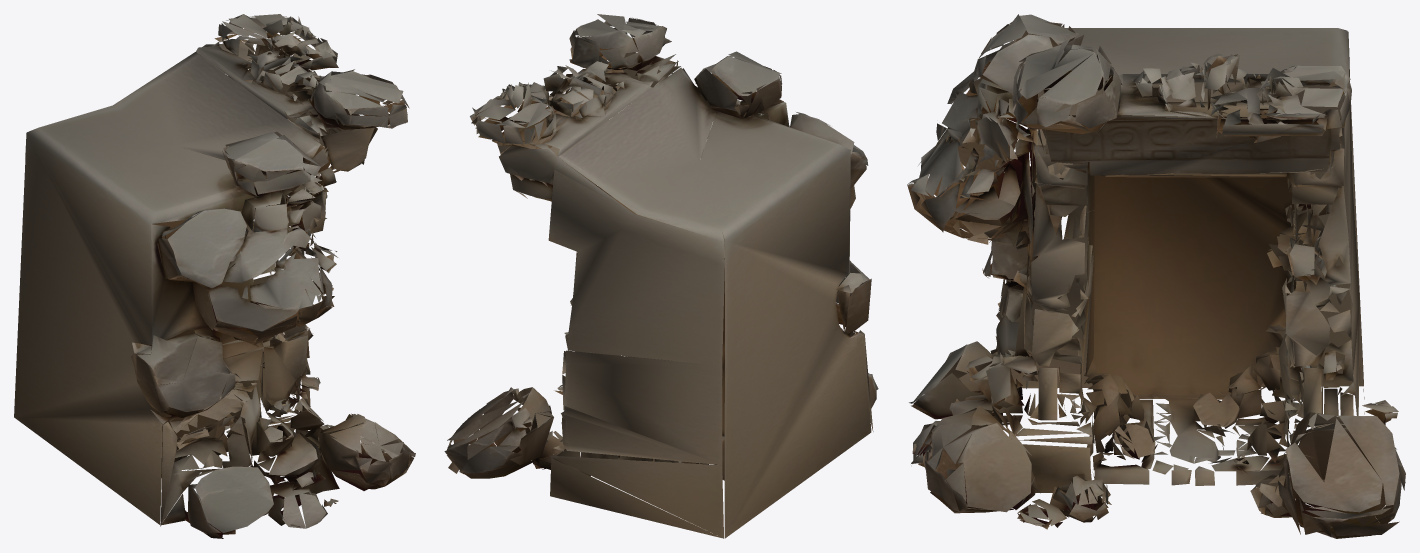
The model's file is fin_collapsed_cave_exit_LOD2.glb.
3 renders of one model, left to right at view 1: azimuth 30°, elevation 25°; view 2: azimuth 150°, elevation 25°; view 3: azimuth 270°, elevation 25°, orthographic. The views are drawn at different scales.
Parts seen in each view (by area): view 1: tripo_node_e22f4373-47d0-40c1-ba41-8e5068f57354; view 2: tripo_node_e22f4373-47d0-40c1-ba41-8e5068f57354; view 3: tripo_node_e22f4373-47d0-40c1-ba41-8e5068f57354.
Boxes of the visible parts, <box> form: tripo_node_e22f4373-47d0-40c1-ba41-8e5068f57354: <box>14,14,415,538</box>; tripo_node_e22f4373-47d0-40c1-ba41-8e5068f57354: <box>444,14,878,538</box>; tripo_node_e22f4373-47d0-40c1-ba41-8e5068f57354: <box>907,14,1405,538</box>.
Size of the model in its own units: 0.7953 by 1.02 by 0.9638.
1 material, 1 textured.
